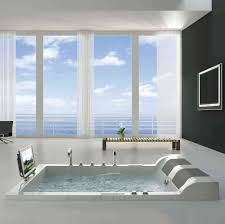bathub: (3, 152, 225, 216)
